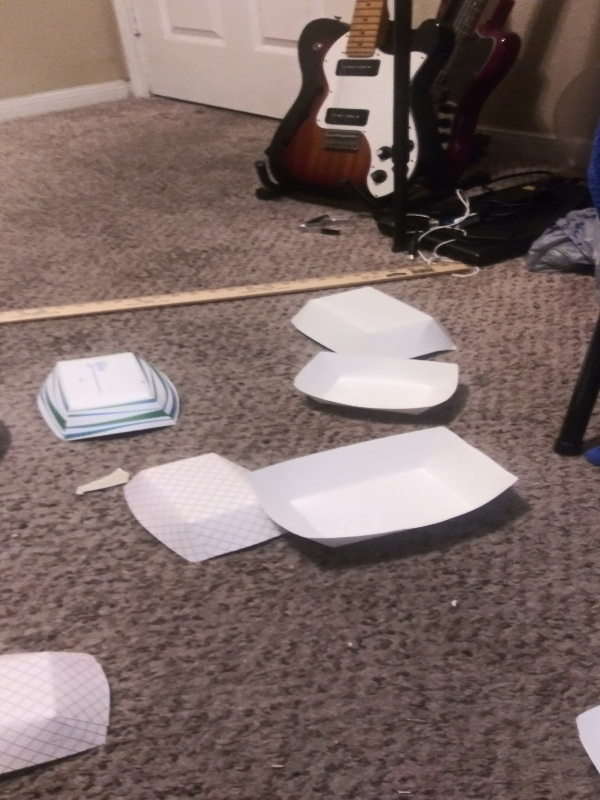plate: (245, 425, 525, 563), (120, 449, 290, 569), (1, 644, 113, 784), (29, 346, 184, 444), (281, 286, 467, 360), (288, 350, 462, 425), (567, 701, 600, 781)
